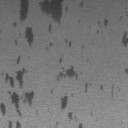red iron: (0, 0, 84, 128), (96, 7, 128, 46), (56, 96, 82, 128), (56, 58, 78, 82), (84, 82, 114, 98), (64, 38, 72, 48), (125, 68, 128, 74), (50, 42, 53, 46)
